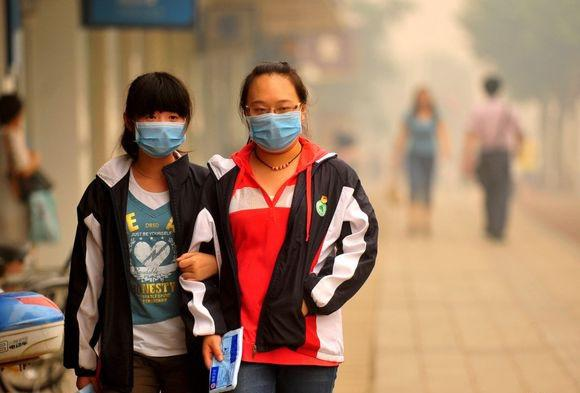OK: (246, 96, 298, 148), (139, 110, 187, 158)
